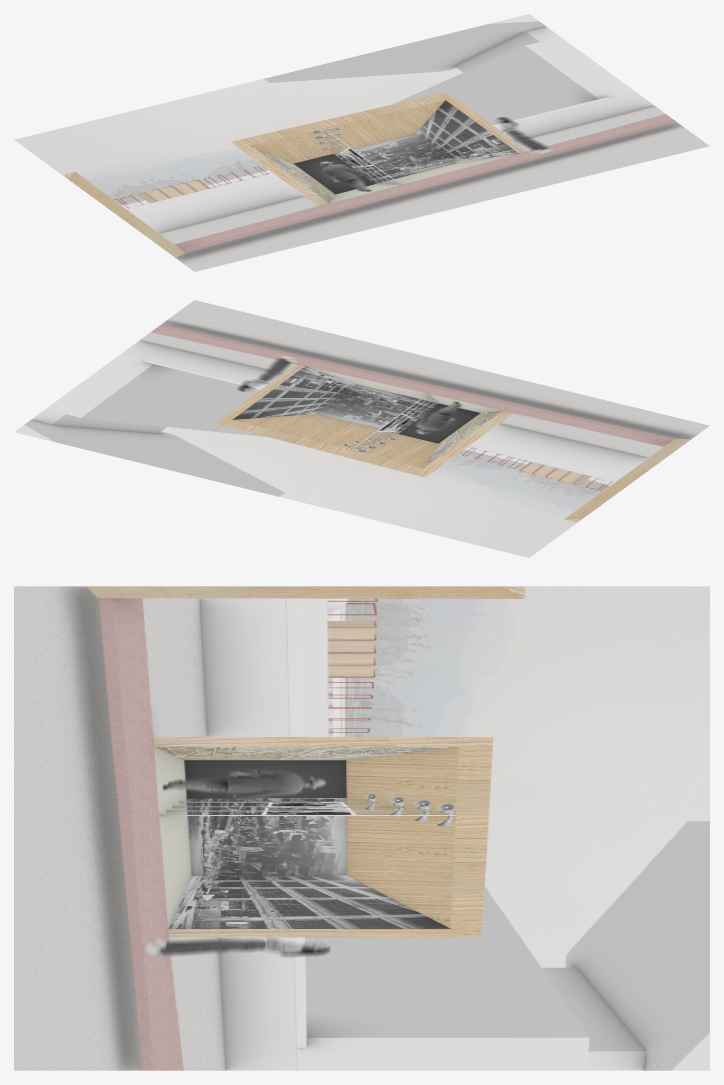
Rendered from storia_bombardamenti 1.obj.
3 renders of one model, top to bottom at view 1: azimuth 30°, elevation 25°; view 2: azimuth 150°, elevation 25°; view 3: azimuth 270°, elevation 25°, orthographic. The views are drawn at different scales.
Visible parts, largest first — view 1: Plane001; view 2: Plane001; view 3: Plane001.
Boxes of the visible parts, left/top/right/bottom form: Plane001: left=14, top=14, right=709, bottom=271; Plane001: left=14, top=300, right=709, bottom=557; Plane001: left=14, top=586, right=709, bottom=1070.
Bounding box in the file's own units: 41.67 × 0 × 25.29.
1 material, 1 textured.
